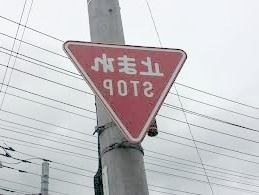Regulatory_sign_triangle: (62, 37, 197, 148)
